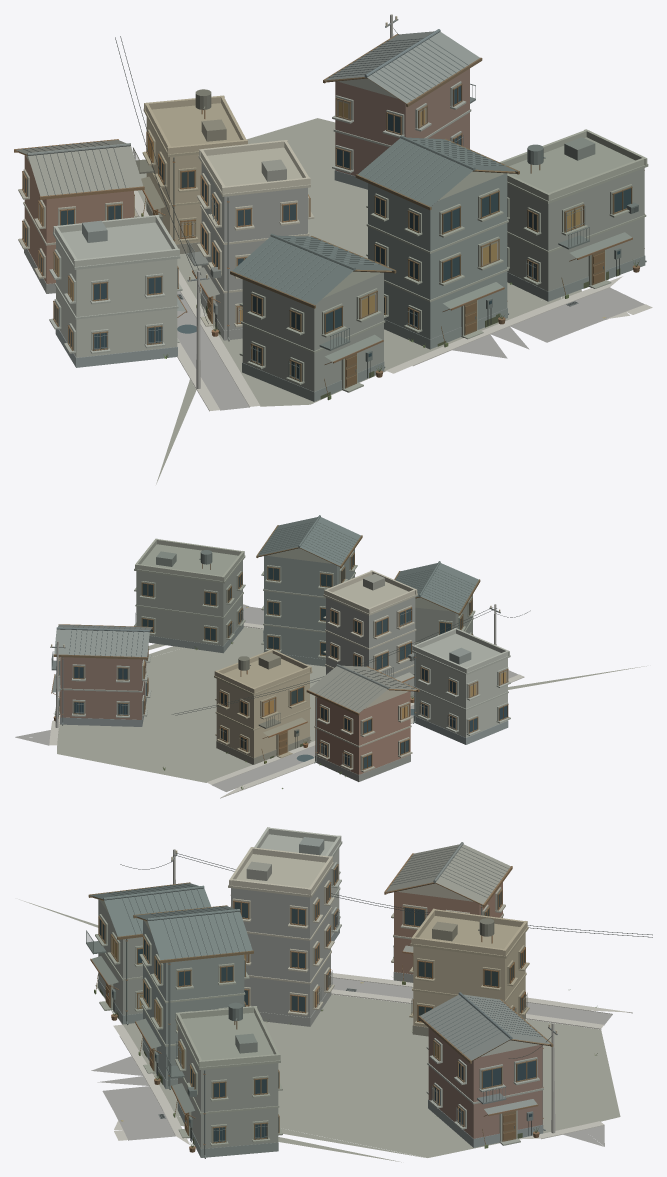
The model's file is street_2_1.glb.
3 views of the same model, one above another, from view 1: azimuth 30°, elevation 25°; view 2: azimuth 150°, elevation 25°; view 3: azimuth 270°, elevation 25° (orthographic). The views are drawn at different scales.
Parts seen in each view (by area): view 1: trim.018, graybrick.017, plaster.018, concrete.017, roof_metal.018, roof_tile.012, wood.018, ground.031, brick.011, metal.018, road, glass.018 (+4 smaller); view 2: ground.031, plaster.018, trim.018, graybrick.017, brick.011, concrete.017, roof_metal.018, wood.018, roof_tile.012, glass.018, metal.018, road (+2 smaller); view 3: ground.031, trim.018, graybrick.017, plaster.018, roof_metal.018, concrete.017, brick.011, roof_tile.012, wood.018, metal.018, road, glass.018 (+3 smaller).
Part boxes in pixels (left/top/right/bottom): trim.018: left=18, top=81, right=648, bottom=392; graybrick.017: left=24, top=163, right=645, bottom=401; plaster.018: left=26, top=78, right=647, bottom=357; concrete.017: left=196, top=14, right=644, bottom=391; roof_metal.018: left=16, top=31, right=631, bottom=361; roof_tile.012: left=27, top=29, right=517, bottom=304; wood.018: left=14, top=34, right=632, bottom=395; ground.031: left=138, top=118, right=581, bottom=484; brick.011: left=24, top=68, right=469, bottom=283; metal.018: left=22, top=19, right=646, bottom=381; road: left=134, top=208, right=644, bottom=410; glass.018: left=23, top=86, right=630, bottom=379; ground.031: left=57, top=626, right=646, bottom=789; plaster.018: left=135, top=538, right=509, bottom=757; trim.018: left=54, top=544, right=510, bottom=772; graybrick.017: left=60, top=549, right=508, bottom=781; brick.011: left=60, top=657, right=410, bottom=774; concrete.017: left=55, top=560, right=496, bottom=727; roof_metal.018: left=52, top=551, right=471, bottom=736; wood.018: left=53, top=525, right=508, bottom=770; roof_tile.012: left=56, top=515, right=478, bottom=689; glass.018: left=59, top=555, right=507, bottom=768; metal.018: left=50, top=550, right=500, bottom=767; road: left=15, top=606, right=518, bottom=791; ground.031: left=19, top=899, right=620, bottom=1162; trim.018: left=95, top=834, right=543, bottom=1146; graybrick.017: left=98, top=869, right=543, bottom=1157; plaster.018: left=99, top=827, right=539, bottom=1067; roof_metal.018: left=91, top=837, right=550, bottom=1114; concrete.017: left=98, top=849, right=555, bottom=1148; brick.011: left=394, top=882, right=542, bottom=1138; roof_tile.012: left=90, top=842, right=512, bottom=1039; wood.018: left=88, top=853, right=553, bottom=1144; metal.018: left=86, top=846, right=557, bottom=1158; road: left=91, top=977, right=612, bottom=1146; glass.018: left=99, top=865, right=535, bottom=1142.
Size of the model in its own units: 41.38 by 11.05 by 42.15.
